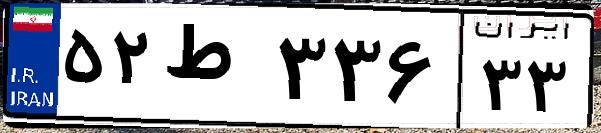2: (110, 28, 158, 98)
3: (270, 28, 330, 110), (330, 28, 385, 110), (475, 38, 525, 113), (525, 38, 570, 115)
5: (57, 26, 110, 100)
6: (385, 28, 445, 110)
ط: (158, 20, 270, 120)
